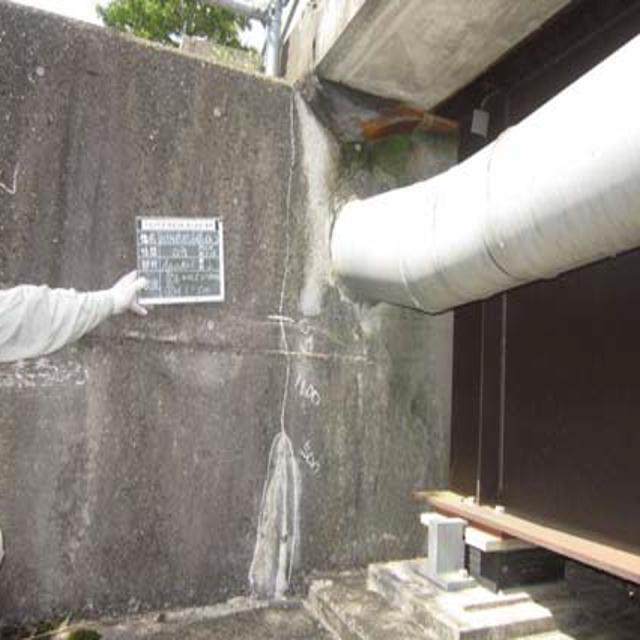freelime: (288, 106, 338, 334), (246, 431, 304, 603)
